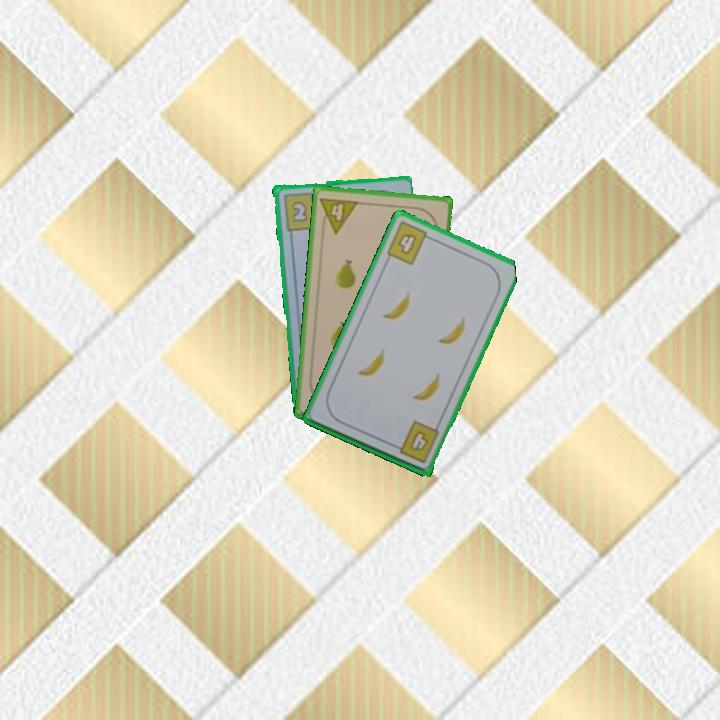2b: (280, 189, 322, 233)
4b: (383, 218, 436, 268), (389, 417, 442, 466)
4p: (317, 193, 361, 236)
